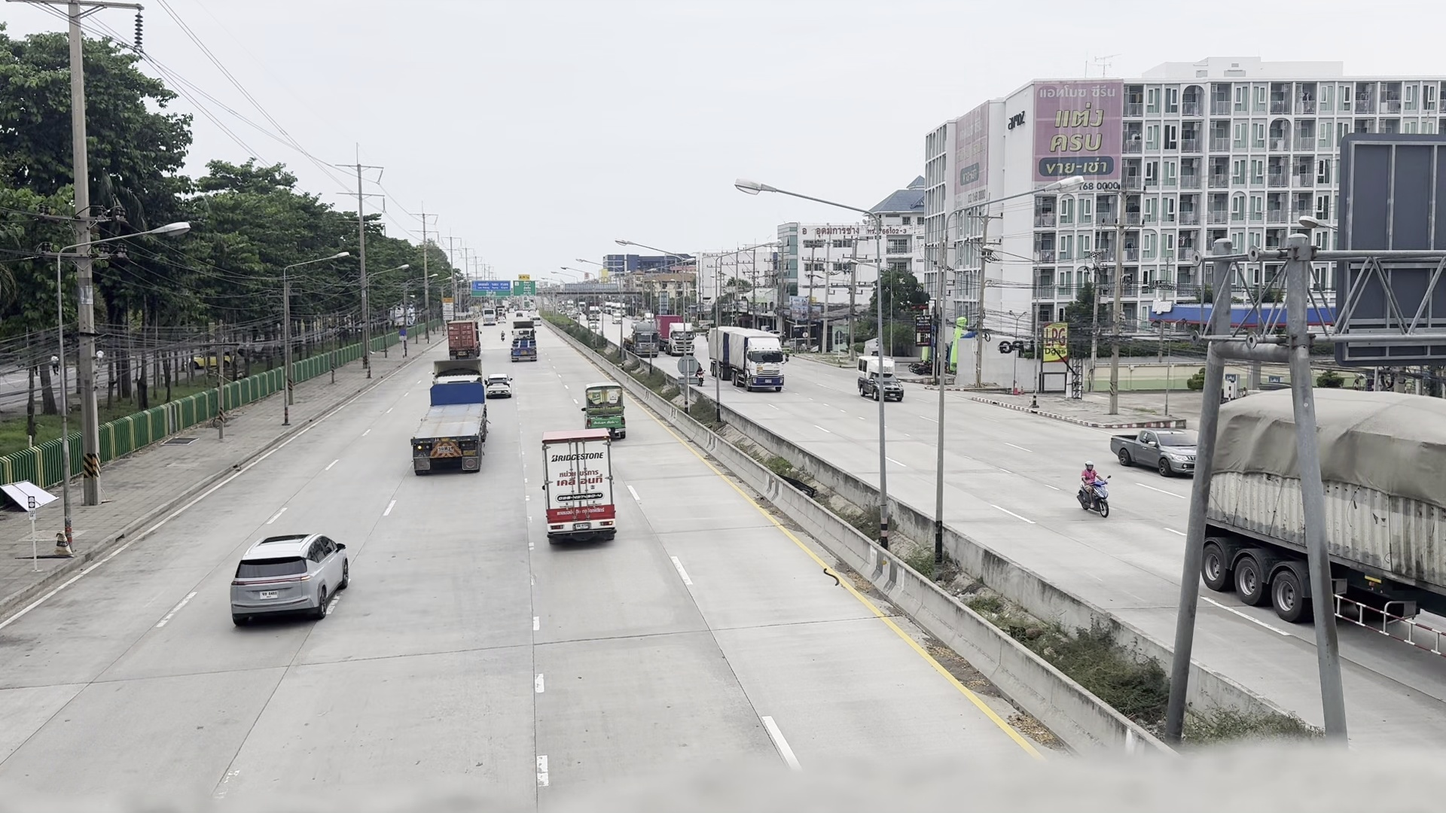bus: (542, 426, 621, 547), (409, 374, 487, 476), (691, 325, 785, 392), (445, 318, 481, 356)
car: (229, 532, 350, 626), (1110, 425, 1196, 477), (582, 383, 629, 440), (0, 480, 59, 516), (856, 375, 907, 403), (743, 364, 785, 392), (510, 327, 539, 361), (866, 377, 905, 402), (482, 374, 514, 399)
motorbike: (1078, 455, 1111, 516)
truck: (543, 428, 619, 547), (409, 376, 487, 477), (581, 385, 629, 440)
